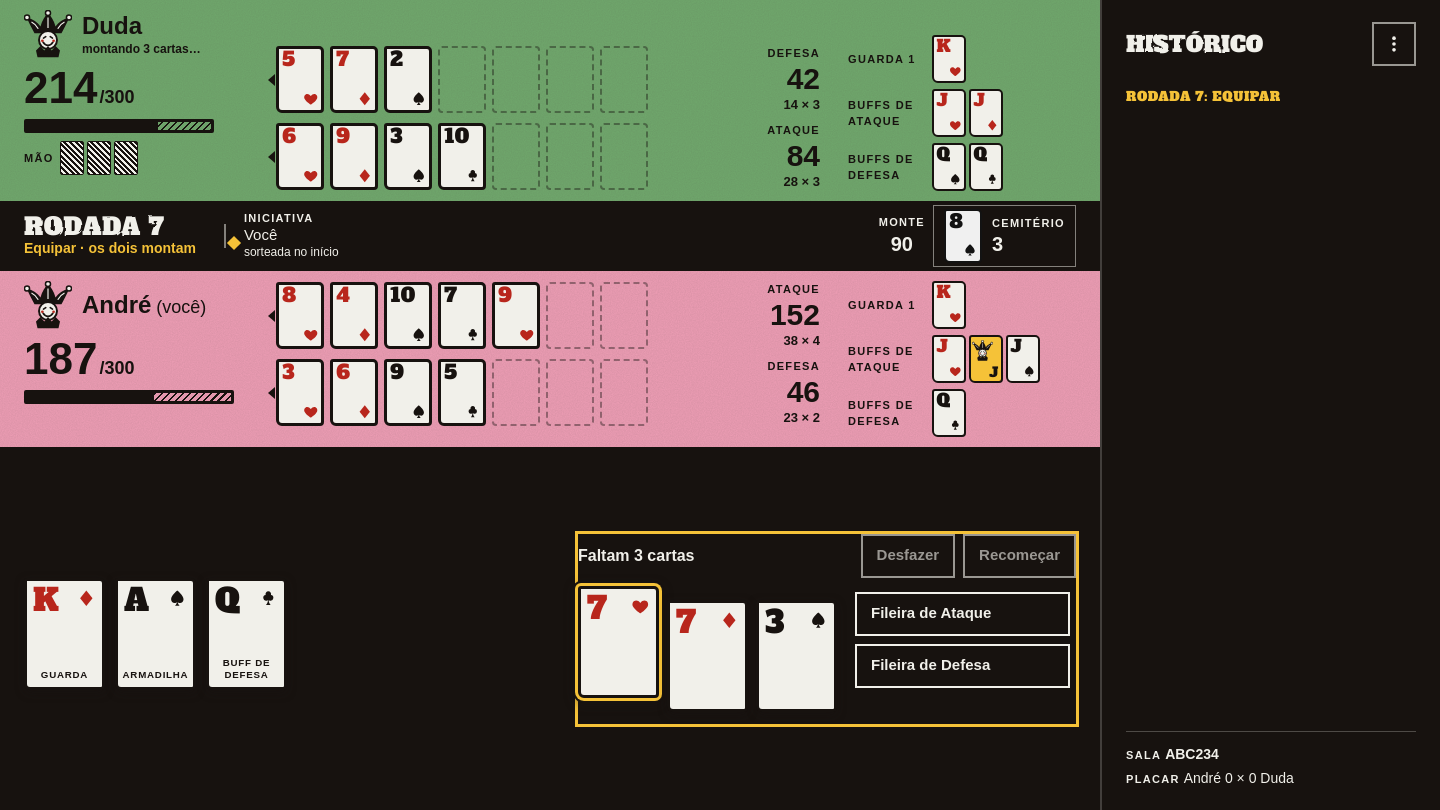
it: Equipar (spec §3.5; livre desde a E2 do sub-projeto 5) › Confirmar só aparece com todas as cartas posicionadas
Expected: the button "Confirmar" is not shown
Click the button "Fileira de Ataque": point(962, 614) x1=855 y1=592 x2=1070 y2=636
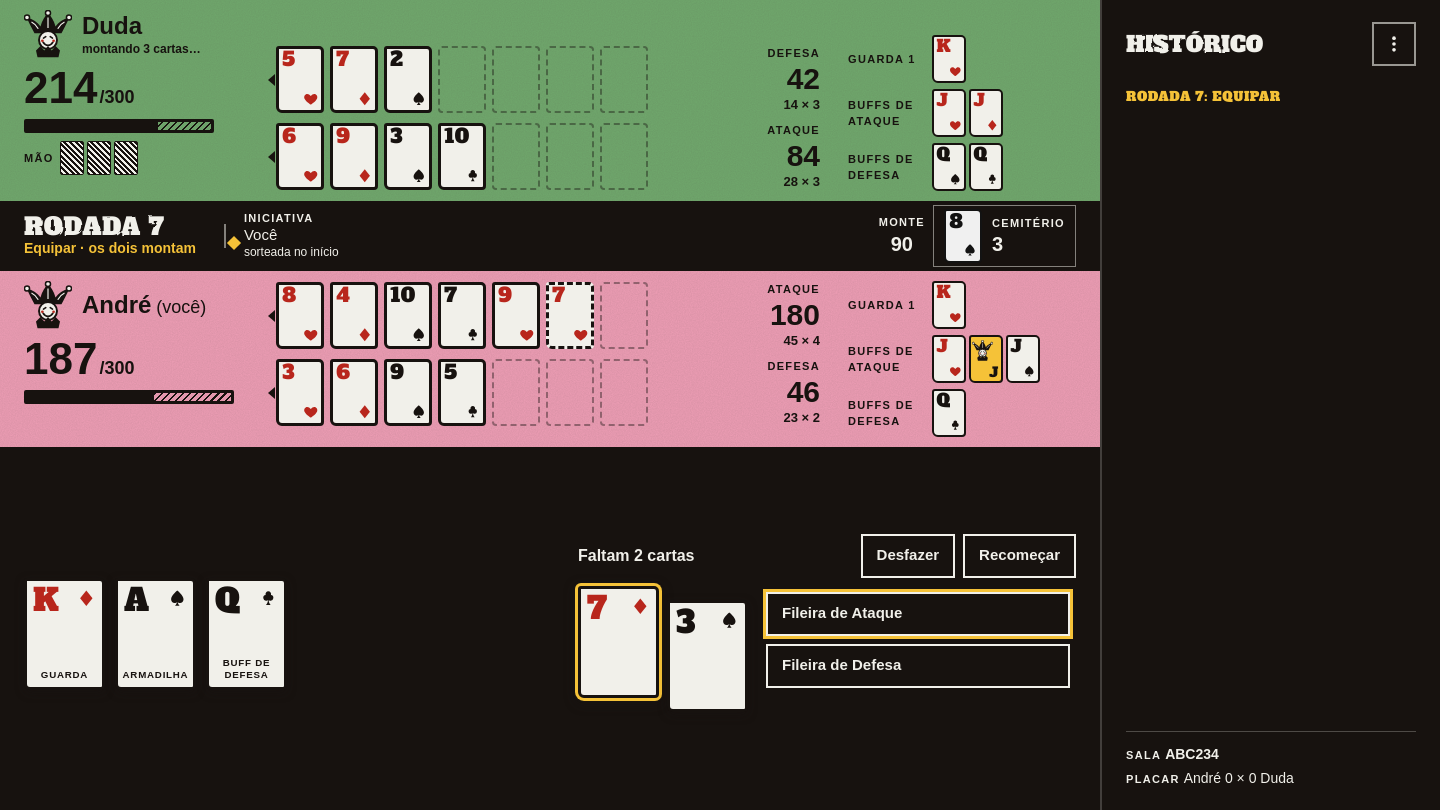
Click the button "Fileira de Defesa": point(842, 665) x1=766 y1=644 x2=1070 y2=688
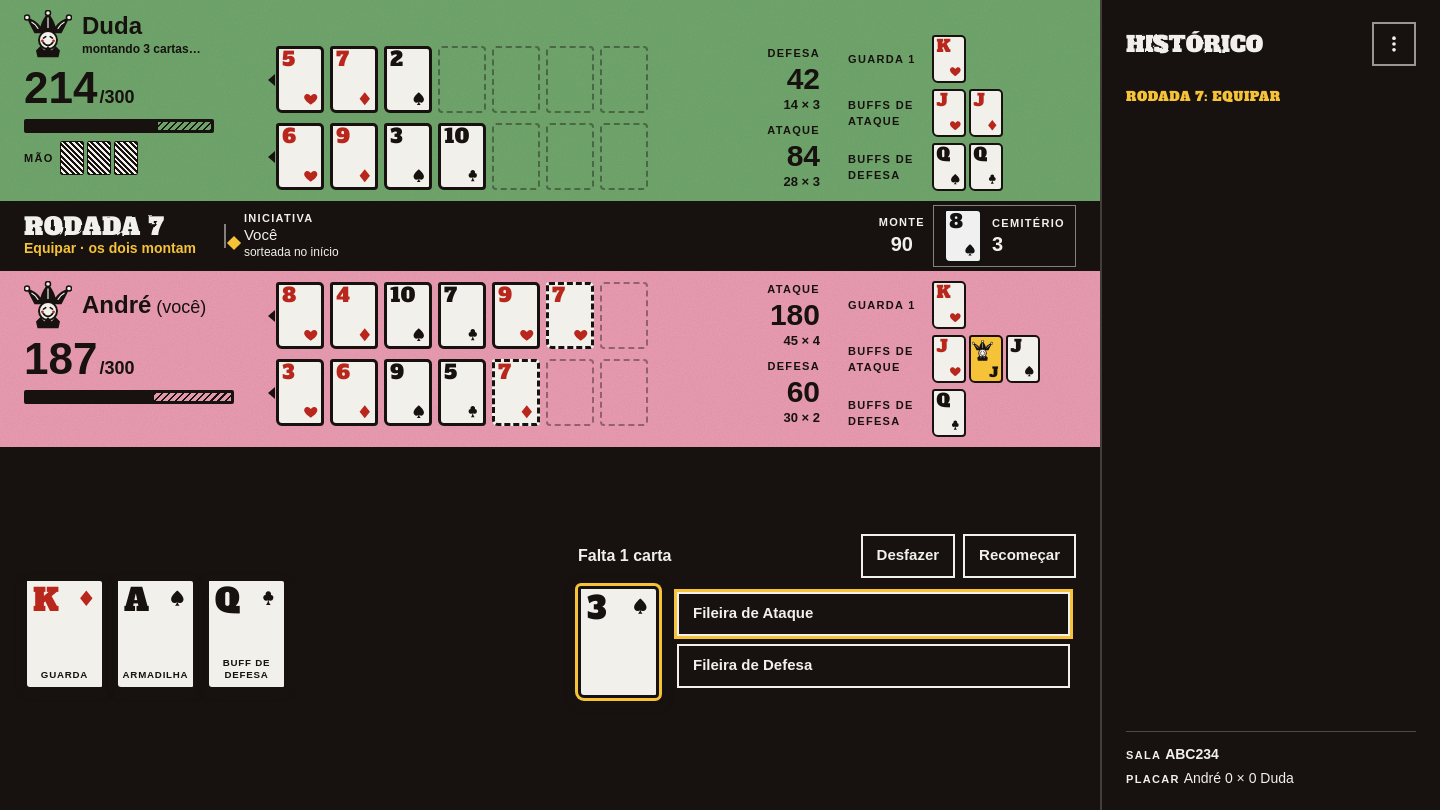
Expected: the button "Confirmar" is not shown
Click the button "Fileira de Defesa": point(753, 665) x1=677 y1=644 x2=1070 y2=688
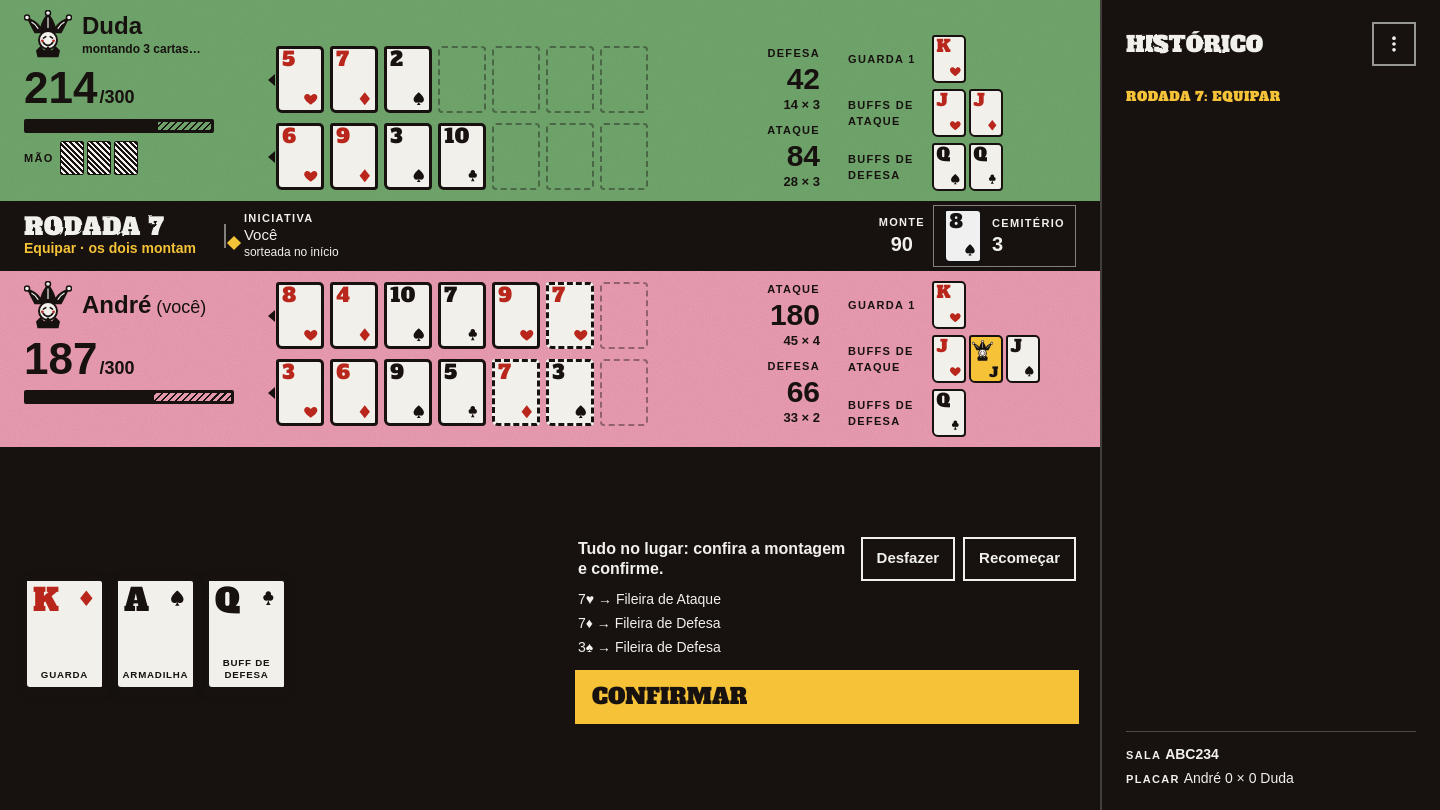
Now the button "Confirmar" is enabled, box x1=578 y1=672 x2=1076 y2=720
Now the list "Destinos" is gone
Now the text "Falta" is gone
